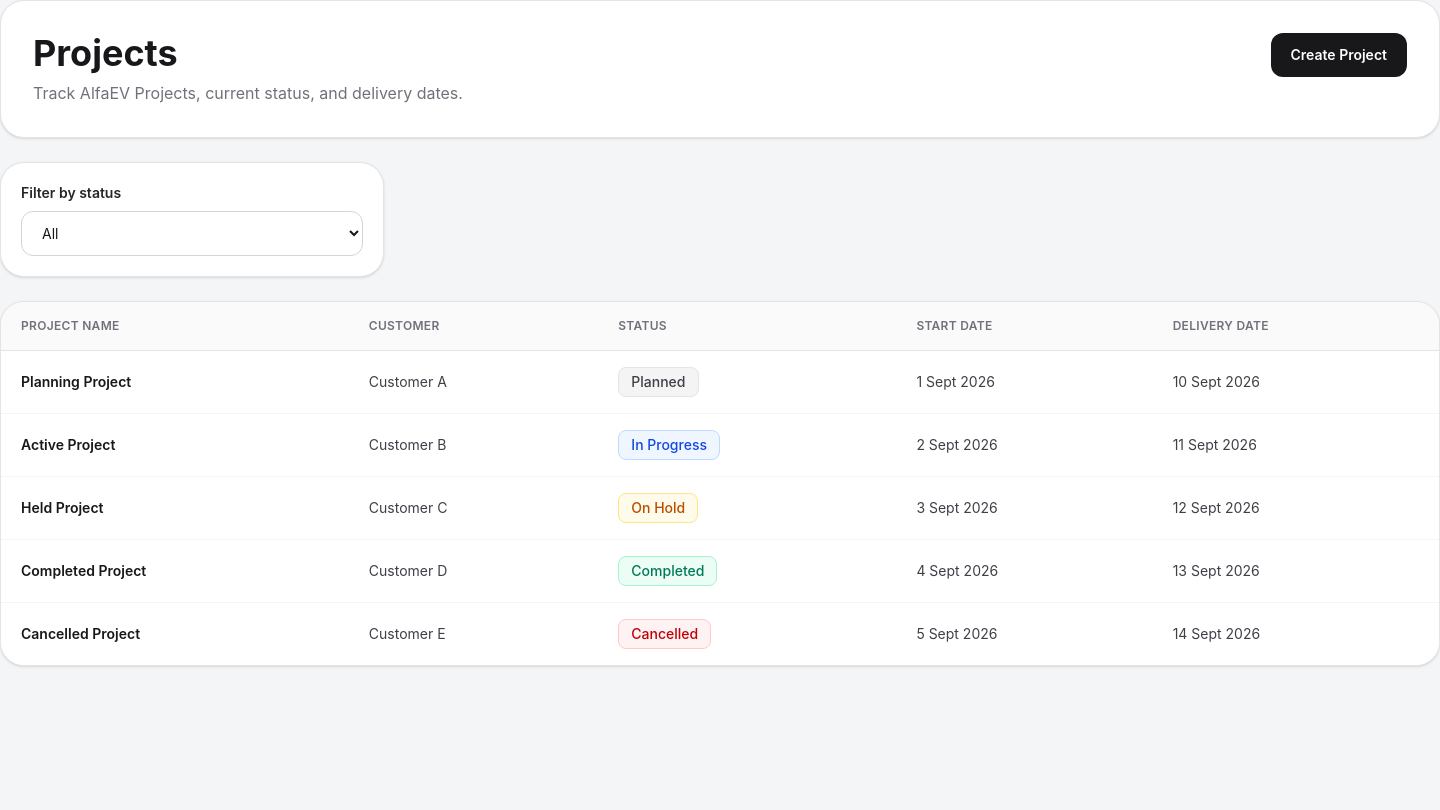
it: ProjectsPage › opens the authorized create form and confirms successful creation
This screenshot has width=1440, height=810.
Click the button "Create Project". click: (1339, 55)
box: [1270,33,1407,77]
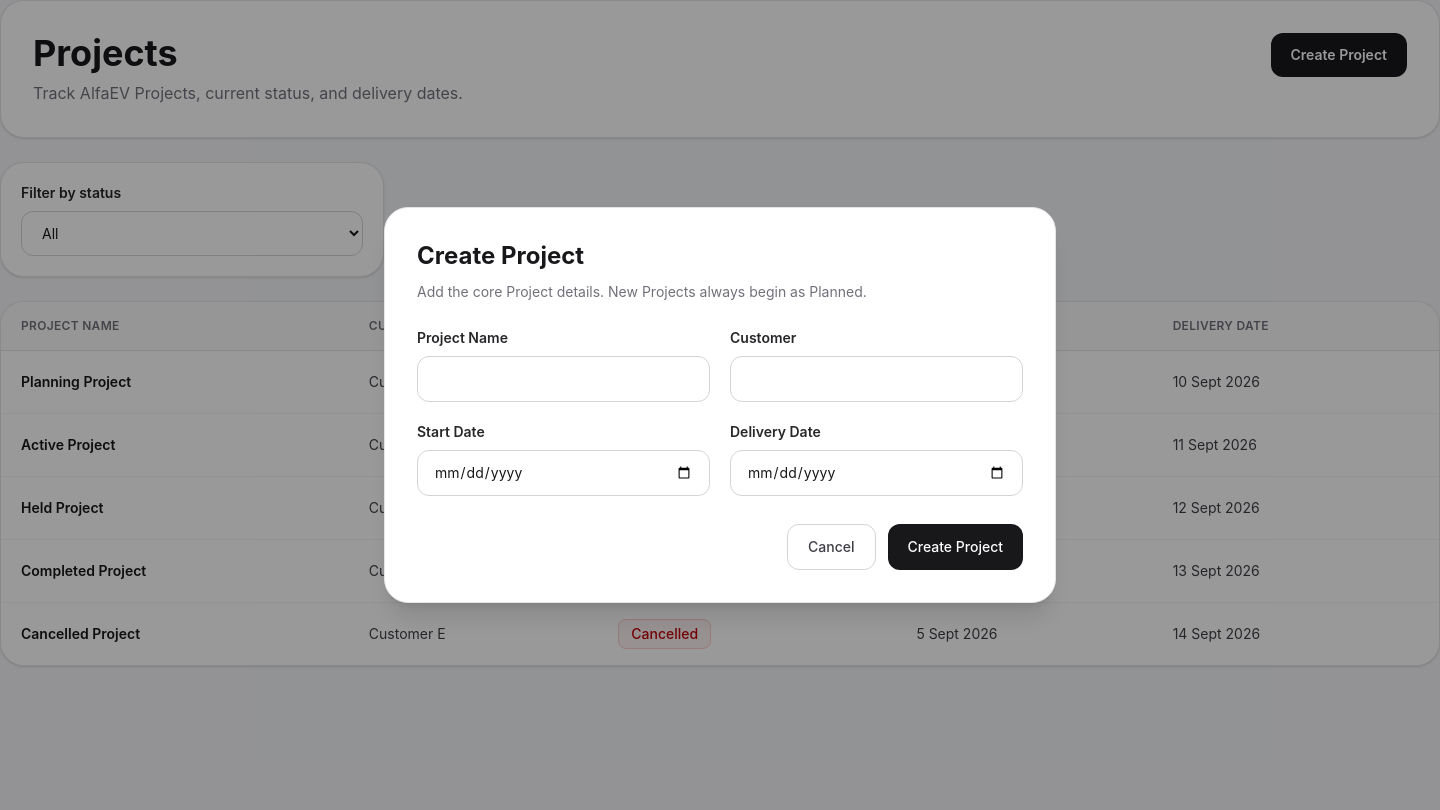
Expected: the dialog "Create Project" is shown, [384,207,1056,603]
Type "New Project" into the field labelled "Project Name". click: (564, 379)
box: [417,356,710,402]
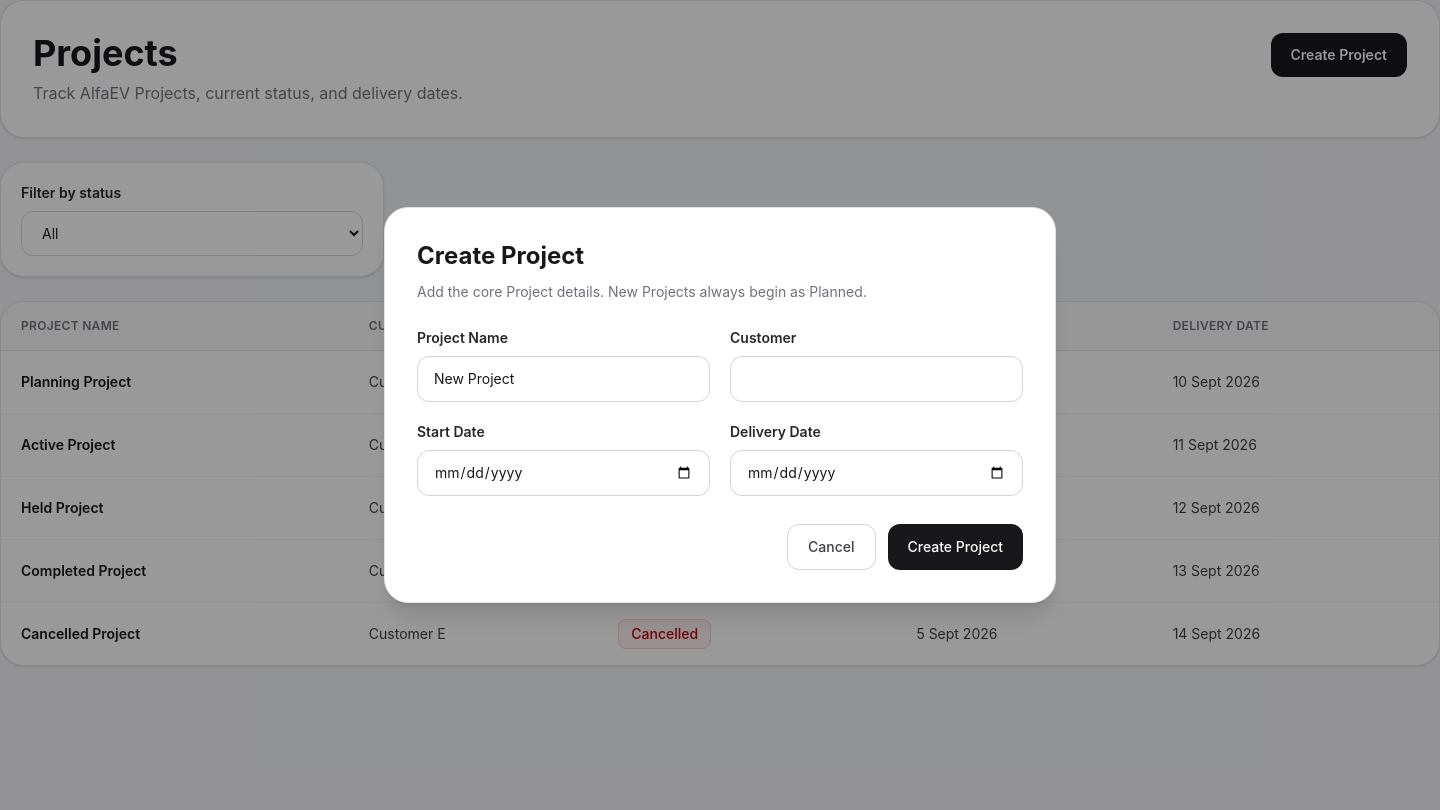
Type "Customer" into the field labelled "Customer". click: (876, 379)
box: [730,356,1023,402]
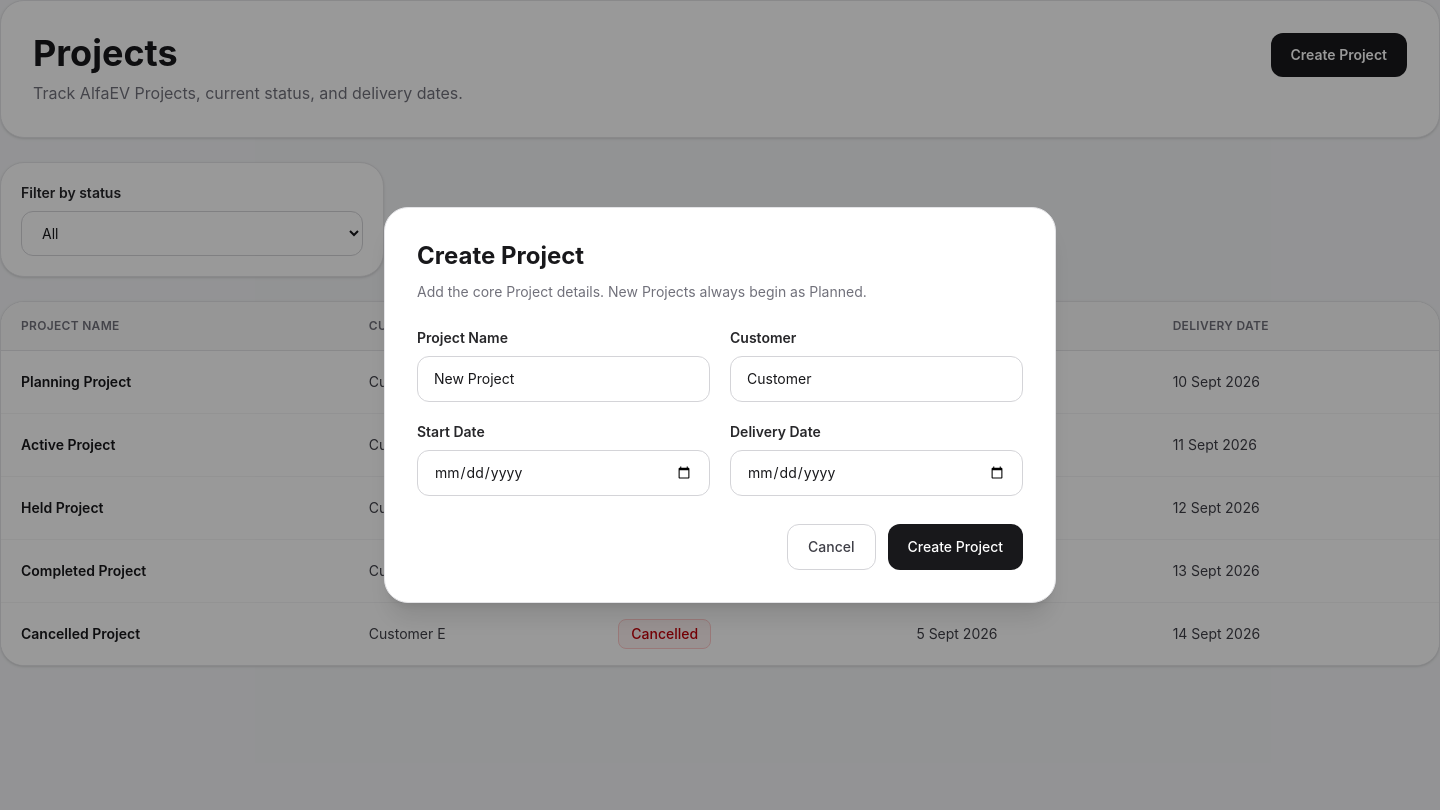
Type "2026-09-15" into the date field labelled "Start Date". click: (564, 473)
box: [417,450,710,496]
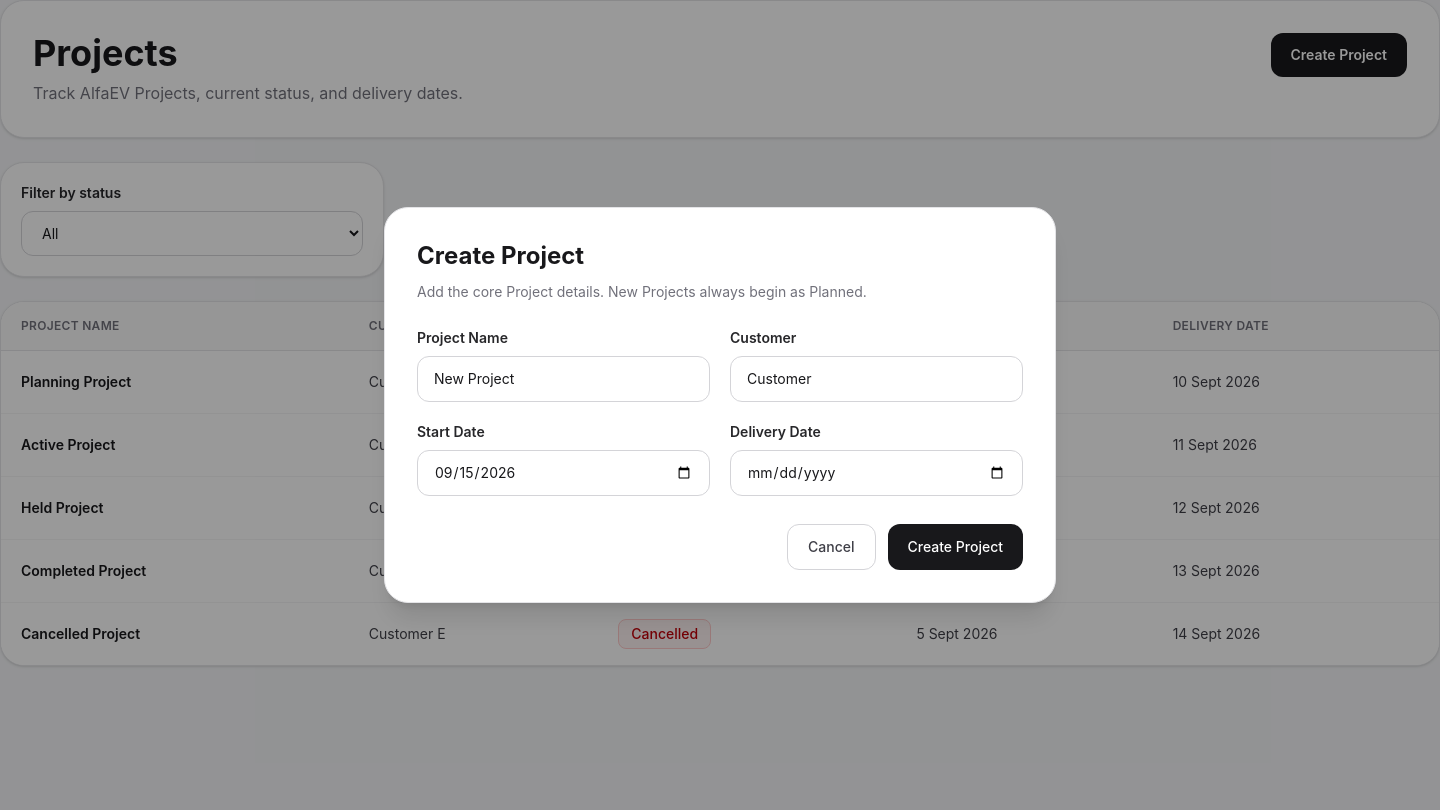
Type "2026-09-30" into the date field labelled "Delivery Date". click: (876, 473)
box: [730,450,1023,496]
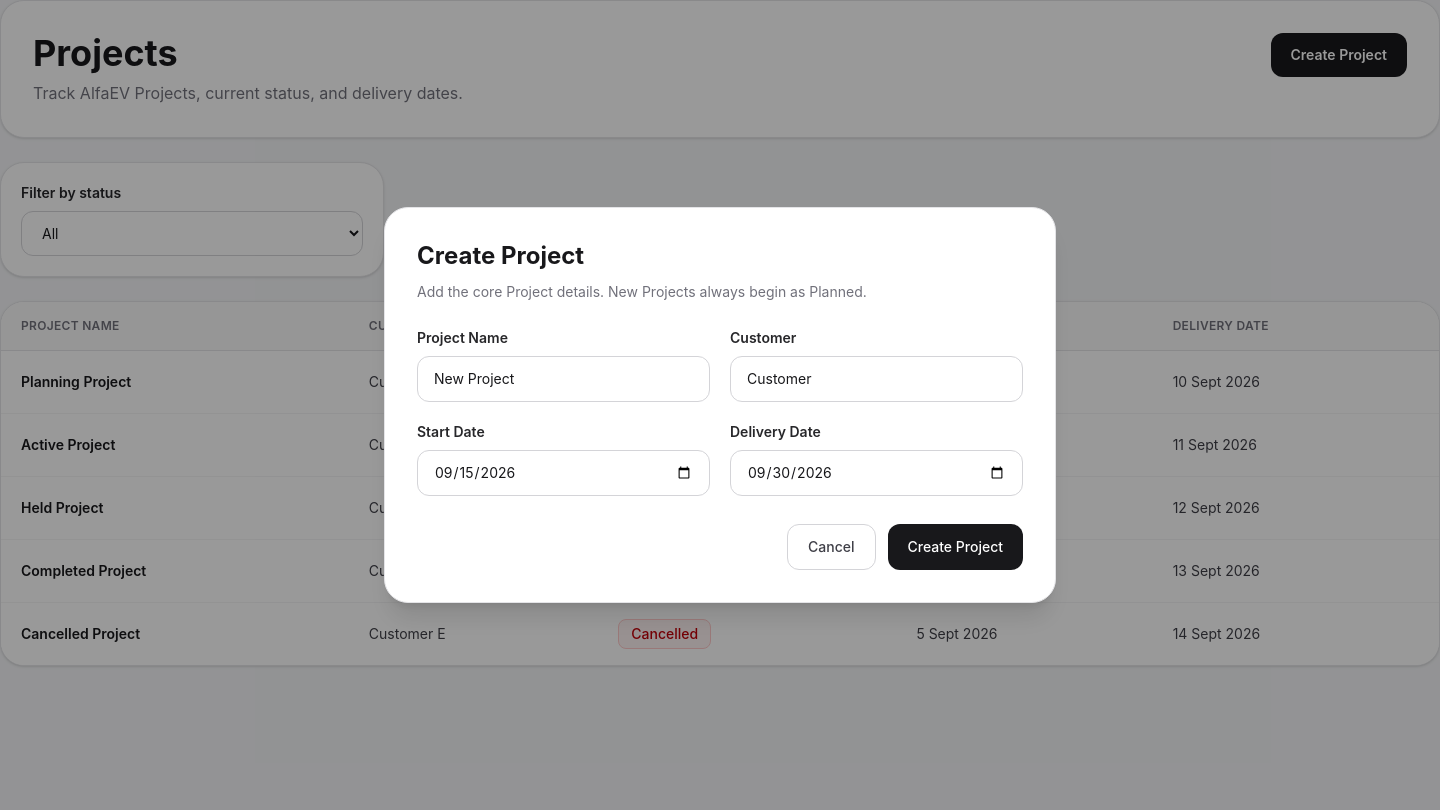
Click the button "Create Project". click: (955, 547)
box: [888,524,1023,570]
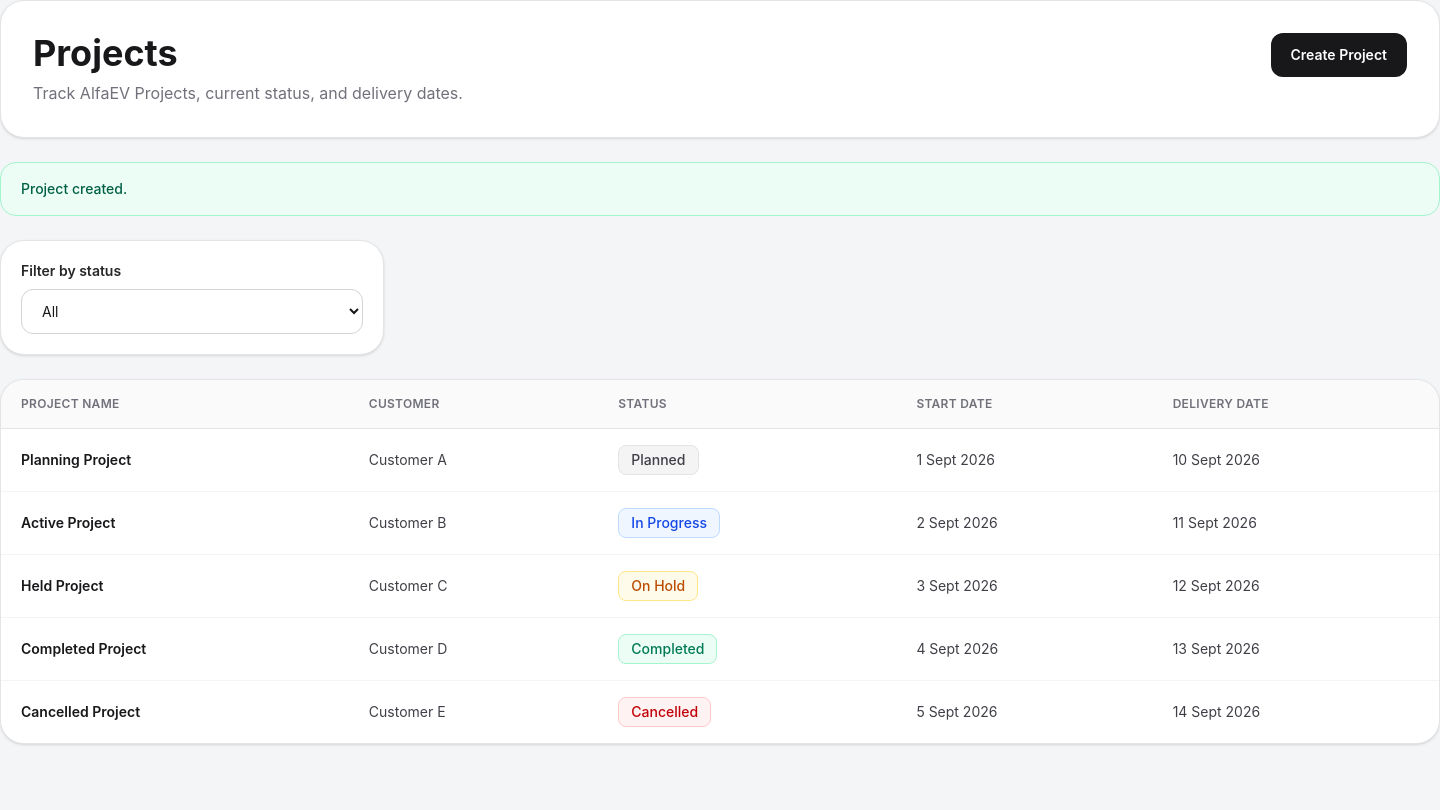
Expected: the dialog is gone
Expected: the message reads "Project created.", [21,180,127,197]
